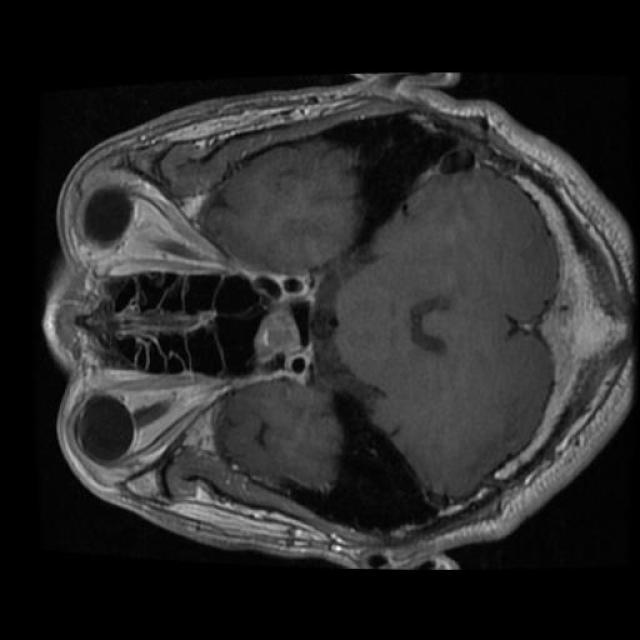Pituitary: (251, 272, 317, 385)
